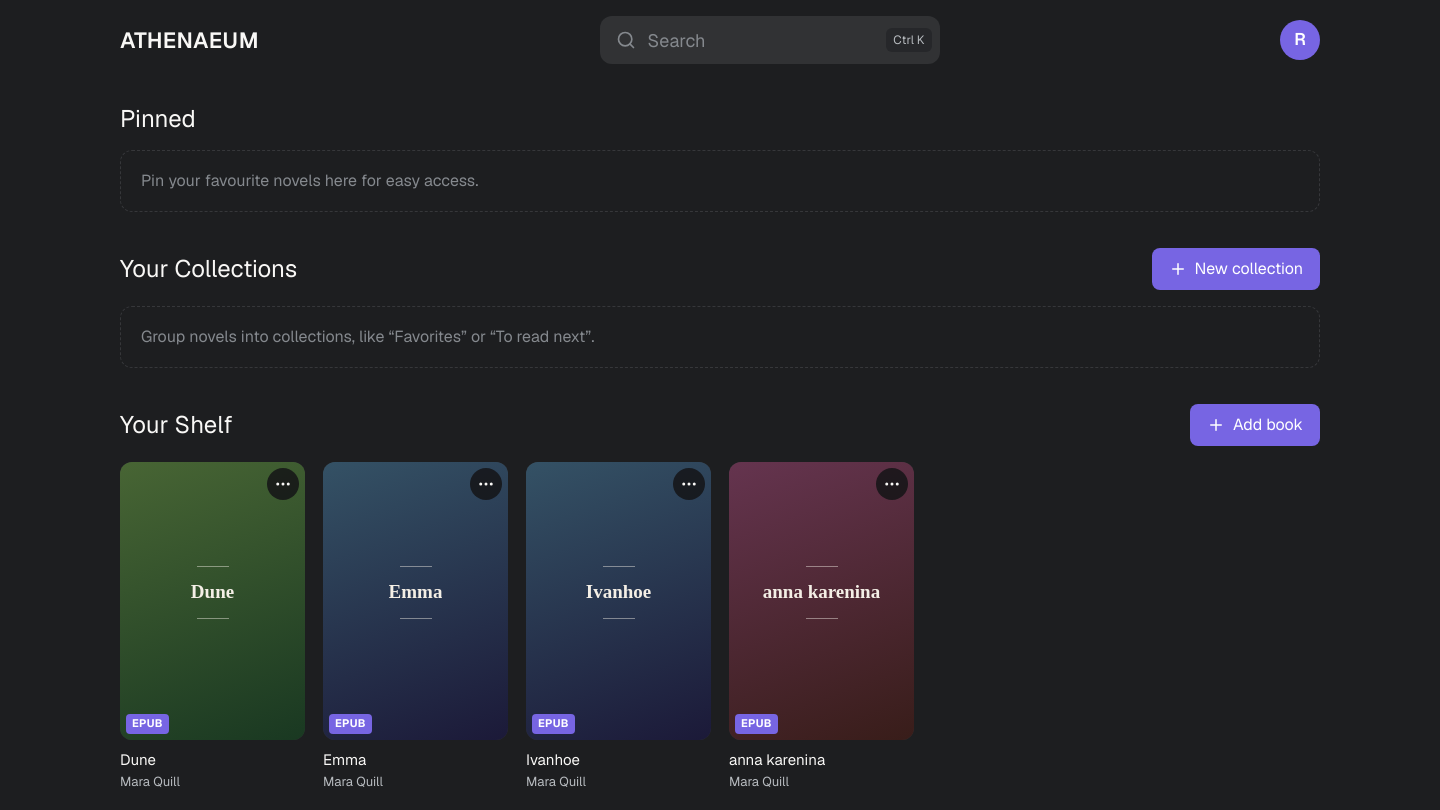
it: creating a collection › asks for a name before sending anything
This screenshot has width=1440, height=810.
Click the button "New collection": (1236, 269) [1152,248,1320,290]
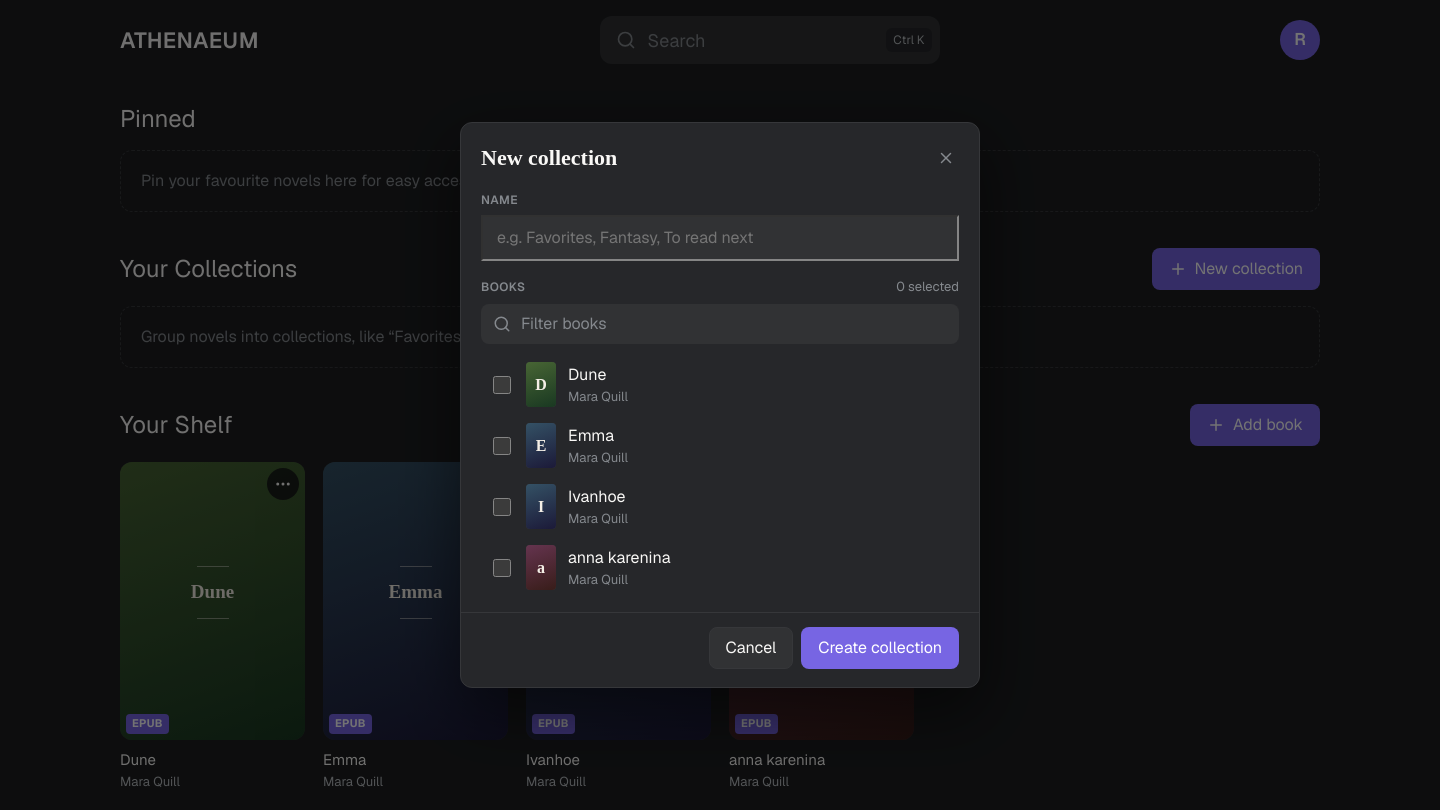
Click the button "Create collection": (880, 648) [801,627,959,669]
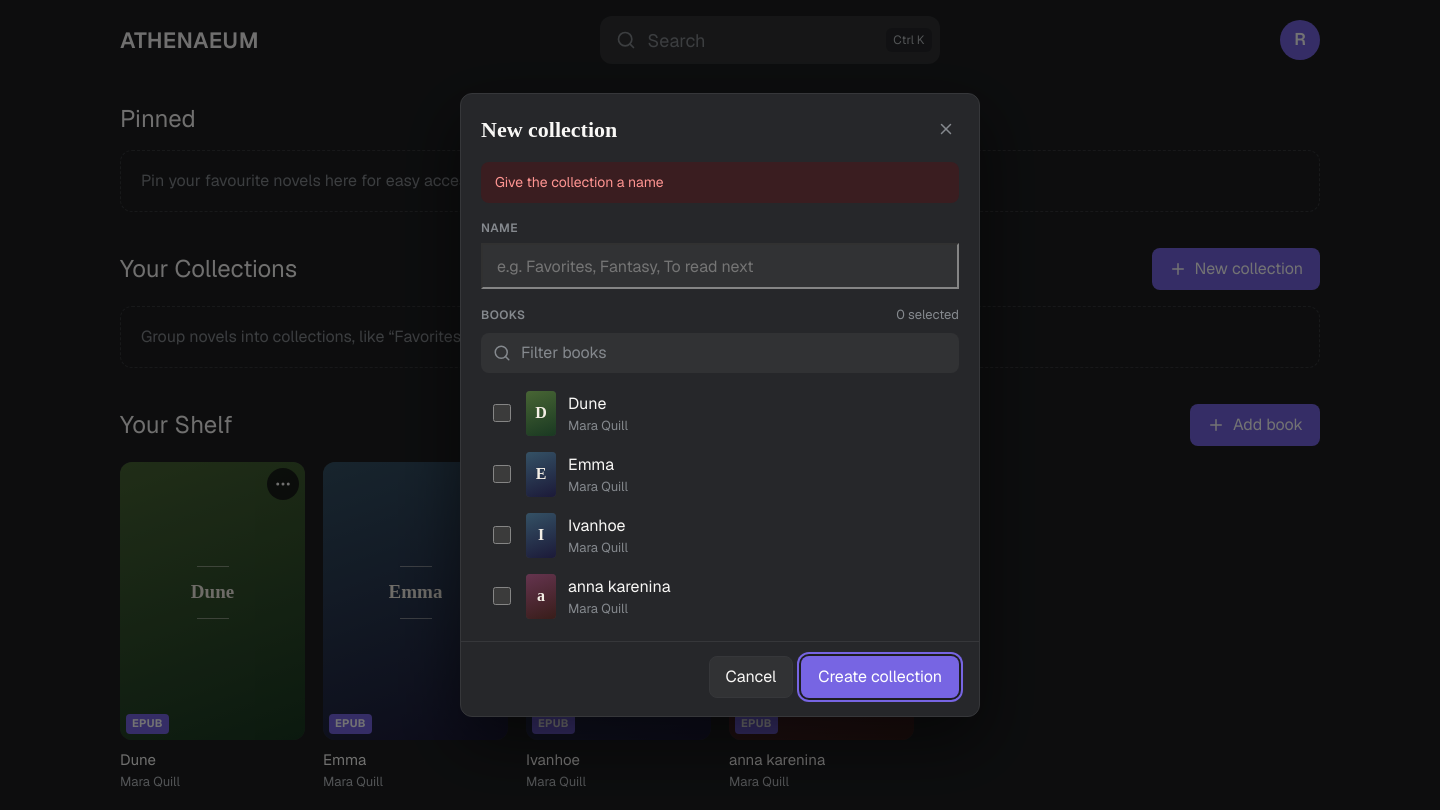
Expected: the message reads "Give the collection a name", [495,173,664,191]
